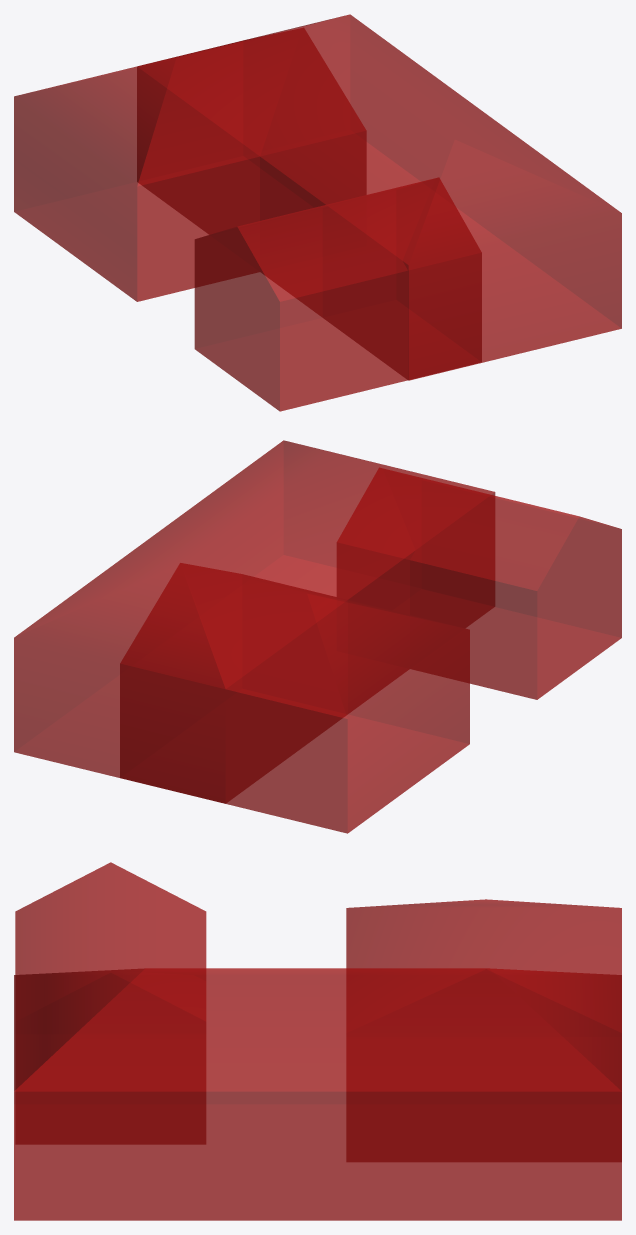
File: SM_Bld_House_Preset_08_COLLISION.fbx
3 renders of one model, top to bottom at view 1: azimuth 30°, elevation 25°; view 2: azimuth 150°, elevation 25°; view 3: azimuth 270°, elevation 25°, orthographic. The views are drawn at different scales.
Parts seen in each view (by area): view 1: SM_Bld_House_Preset_08_COLLISION; view 2: SM_Bld_House_Preset_08_COLLISION; view 3: SM_Bld_House_Preset_08_COLLISION.
Boxes of the visible parts, <box> form: SM_Bld_House_Preset_08_COLLISION: <box>14,14,621,411</box>; SM_Bld_House_Preset_08_COLLISION: <box>14,440,621,833</box>; SM_Bld_House_Preset_08_COLLISION: <box>14,862,621,1220</box>.
Bounding box in the file's own units: 1318 × 637 × 1816.
